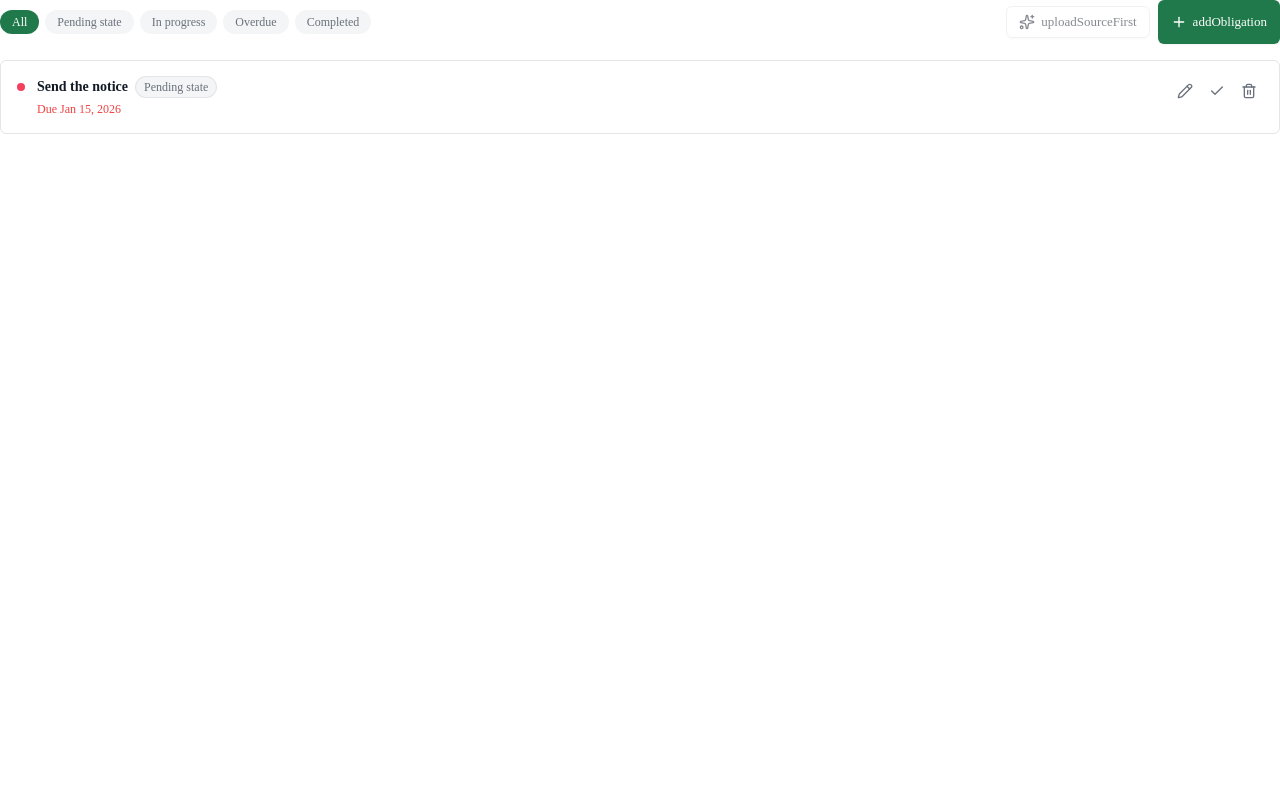
Test case: contract actions list presentation › uses the shared confirmation dialog before deleting an action
Click the button named "deleteObligation". click: (1249, 91)
box: [1235,77,1263,105]
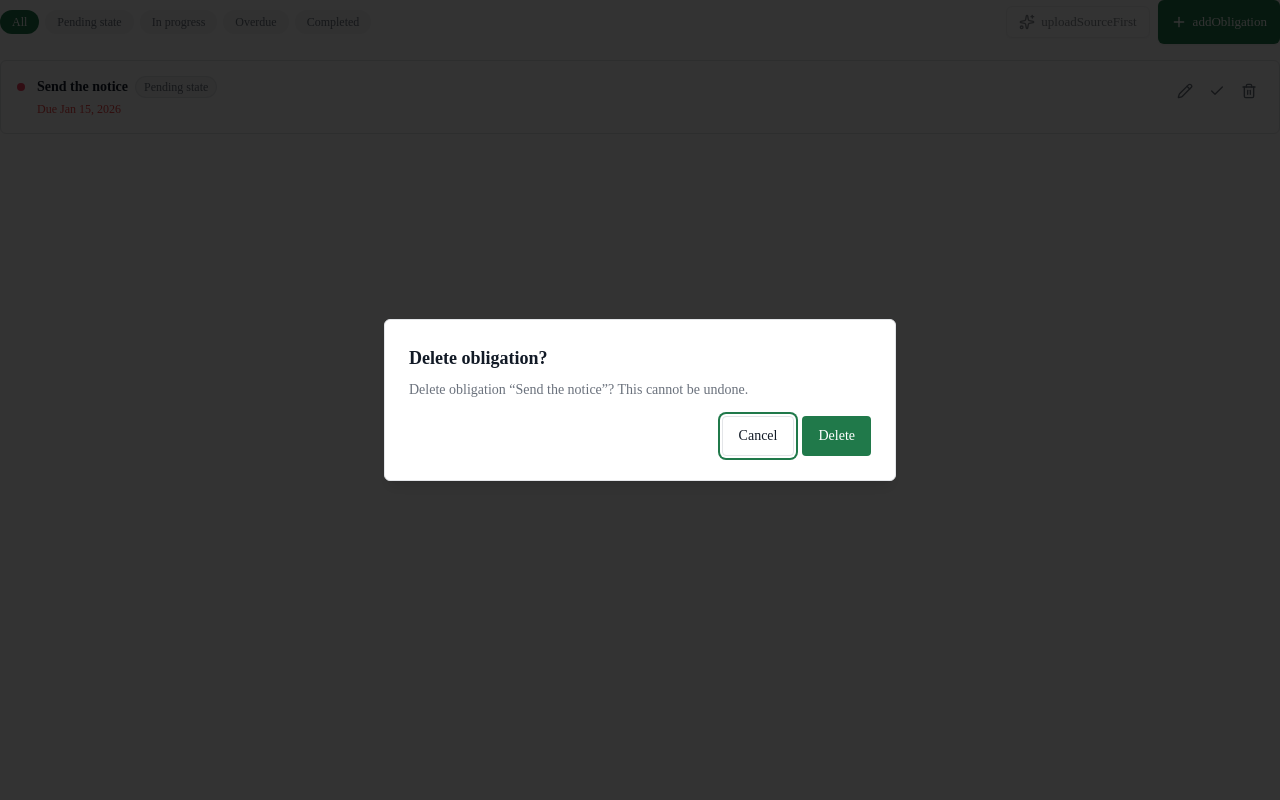
Expected: the heading "Delete obligation?" is shown, [409,348,548,368]
Expected: the text "Delete obligation “Send the notice”? This cannot be undone." is shown, [409,382,748,397]
